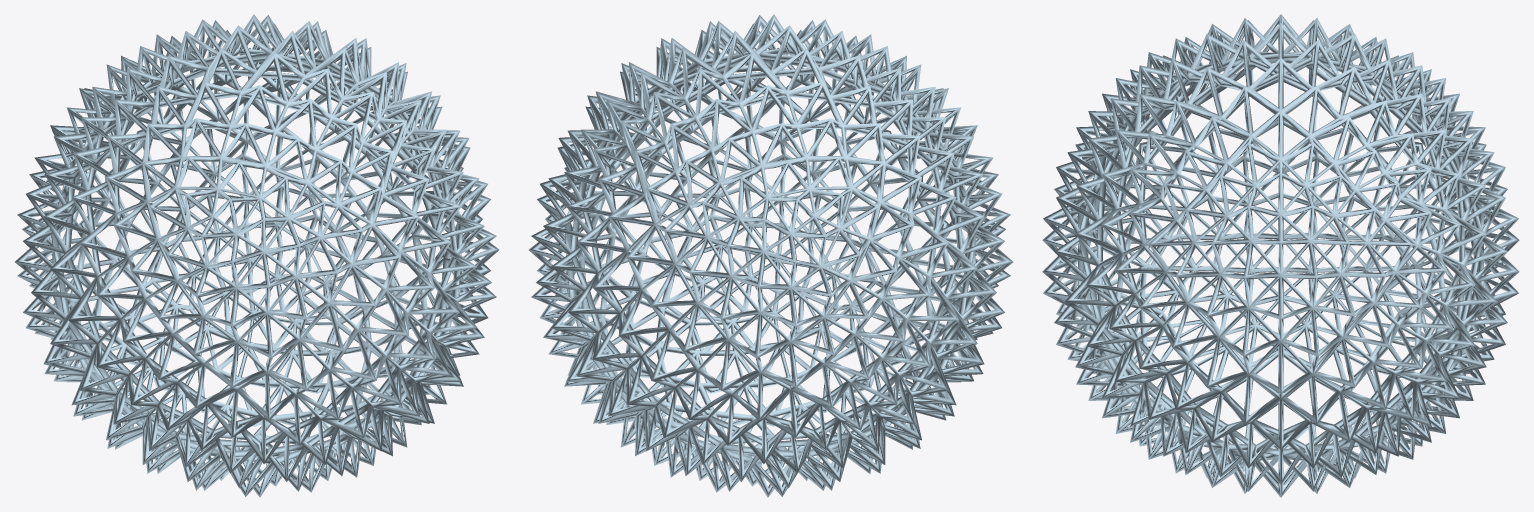
The model's file is hober.glb.
3 views of the same model, side by side, from view 1: azimuth 30°, elevation 25°; view 2: azimuth 150°, elevation 25°; view 3: azimuth 270°, elevation 25° (orthographic).
Visible parts, largest first — view 1: Cube; view 2: Cube; view 3: Cube.
Part boxes in pixels (bbox=[...]): Cube: bbox=[14, 14, 499, 497]; Cube: bbox=[528, 14, 1013, 497]; Cube: bbox=[1042, 14, 1519, 497].
Bounding box in the file's own units: 61.24 × 61.24 × 61.24.
